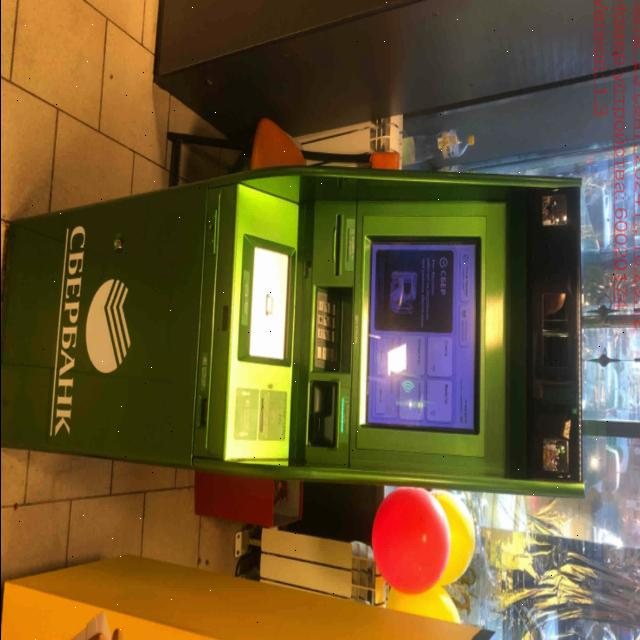bank: (1, 168, 586, 490)
